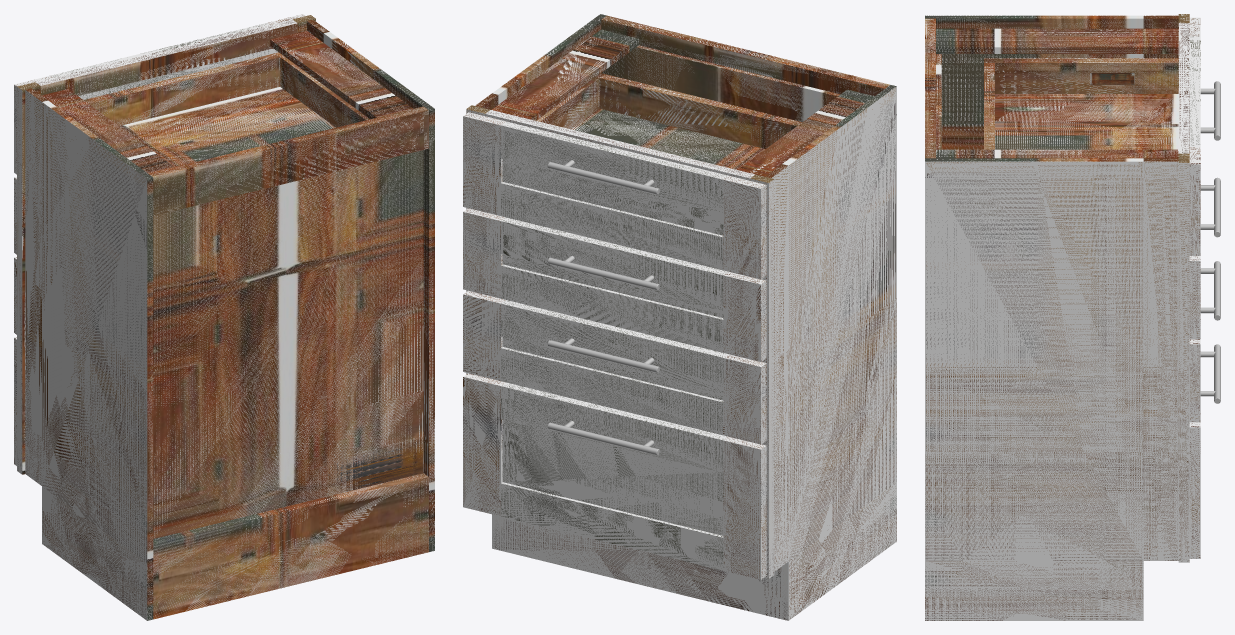
The picture shows the model from 3 angles, left to right: view 1: azimuth 30°, elevation 25°; view 2: azimuth 150°, elevation 25°; view 3: azimuth 270°, elevation 25°; orthographic projection. The views are drawn at different scales.
Parts seen in each view (by area): view 1: mesh4_mesh4-geometry, mesh7_mesh7-geometry, mesh12_mesh12-geometry, mesh3_mesh3-geometry, mesh19_mesh19-geometry, mesh6_mesh6-geometry, mesh8_mesh8-geometry, mesh17_mesh17-geometry, mesh5_mesh5-geometry, mesh10_mesh10-geometry, mesh14_mesh14-geometry, mesh2_mesh2-geometry (+5 smaller); view 2: mesh7_mesh7-geometry, mesh23_mesh23-geometry, mesh21_mesh21-geometry, mesh26_mesh26-geometry, mesh22_mesh22-geometry, mesh24_mesh24-geometry, mesh13_mesh13-geometry, mesh4_mesh4-geometry, mesh8_mesh8-geometry, mesh17_mesh17-geometry, mesh6_mesh6-geometry, mesh3_mesh3-geometry (+8 smaller); view 3: mesh10_mesh10-geometry, mesh9_mesh9-geometry, mesh11_mesh11-geometry, mesh19_mesh19-geometry, mesh7_mesh7-geometry, mesh15_mesh15-geometry, mesh16_mesh16-geometry, mesh2_mesh2-geometry, mesh24_mesh24-geometry, mesh14_mesh14-geometry, mesh29_mesh29-geometry, mesh5_mesh5-geometry (+6 smaller).
Part boxes in pixels (x1,y1,x2,y2): mesh4_mesh4-geometry: (153, 150, 423, 538); mesh7_mesh7-geometry: (42, 100, 153, 563); mesh12_mesh12-geometry: (153, 473, 428, 619); mesh3_mesh3-geometry: (148, 106, 428, 215); mesh19_mesh19-geometry: (119, 87, 335, 166); mesh6_mesh6-geometry: (25, 88, 47, 485); mesh8_mesh8-geometry: (42, 486, 153, 620); mesh17_mesh17-geometry: (84, 53, 280, 125); mesh5_mesh5-geometry: (35, 19, 297, 95); mesh10_mesh10-geometry: (323, 32, 434, 494); mesh14_mesh14-geometry: (270, 30, 413, 119); mesh2_mesh2-geometry: (17, 15, 315, 474); mesh7_mesh7-geometry: (783, 85, 896, 560); mesh23_mesh23-geometry: (501, 182, 723, 570); mesh21_mesh21-geometry: (501, 121, 728, 473); mesh26_mesh26-geometry: (502, 159, 723, 535); mesh22_mesh22-geometry: (723, 176, 766, 579); mesh24_mesh24-geometry: (463, 112, 505, 516); mesh13_mesh13-geometry: (498, 516, 782, 619); mesh4_mesh4-geometry: (601, 45, 839, 122); mesh8_mesh8-geometry: (782, 482, 896, 620); mesh17_mesh17-geometry: (599, 74, 801, 148); mesh6_mesh6-geometry: (765, 164, 788, 571); mesh3_mesh3-geometry: (601, 15, 889, 95); mesh10_mesh10-geometry: (925, 158, 1143, 560); mesh9_mesh9-geometry: (1143, 158, 1178, 560); mesh11_mesh11-geometry: (925, 561, 1143, 620); mesh19_mesh19-geometry: (995, 94, 1178, 149); mesh7_mesh7-geometry: (925, 15, 1143, 149); mesh15_mesh15-geometry: (936, 28, 1178, 53); mesh16_mesh16-geometry: (984, 58, 1178, 93); mesh2_mesh2-geometry: (1178, 14, 1189, 562); mesh24_mesh24-geometry: (1189, 145, 1200, 558); mesh14_mesh14-geometry: (936, 149, 1178, 158); mesh29_mesh29-geometry: (1214, 81, 1220, 403); mesh5_mesh5-geometry: (1178, 23, 1189, 153).
Bounding box in the file's own units: 0.515 × 0.7404 × 0.4319.
